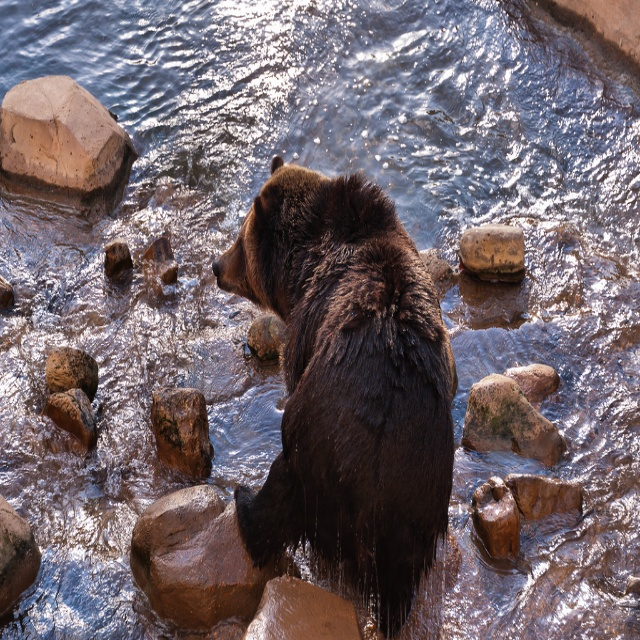Brown bear: (208, 150, 456, 639)
